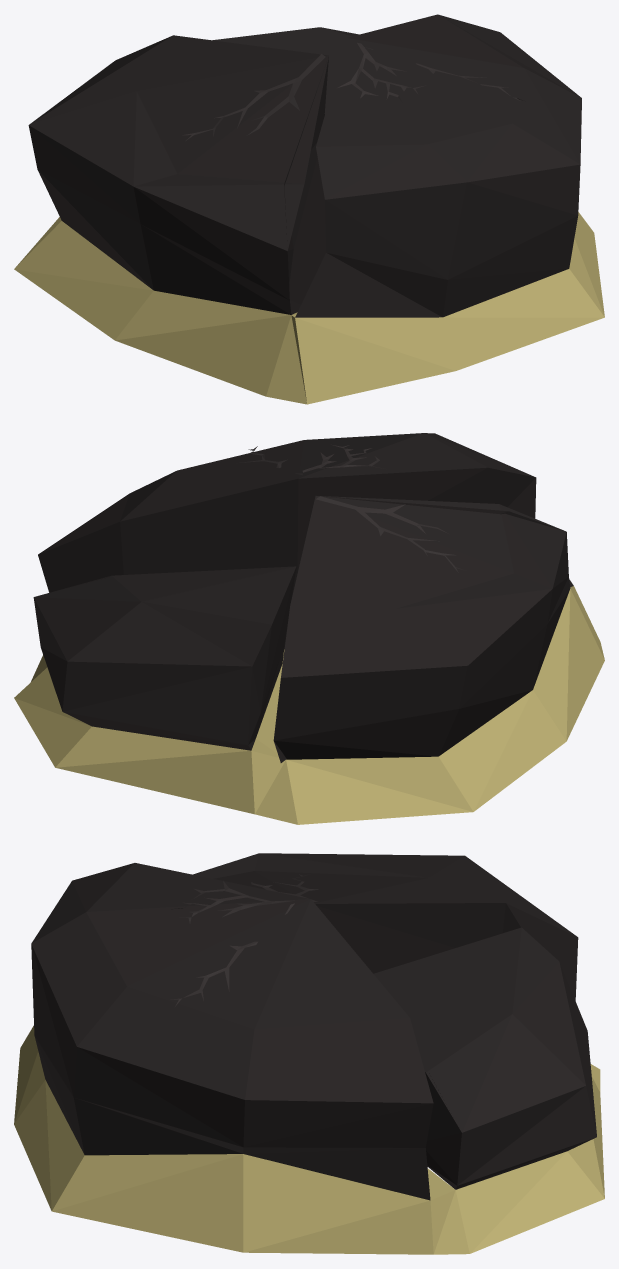
Rendered from obj_mysterious_ruins_5_0.obj.
The picture shows the model from 3 angles, top to bottom: view 1: azimuth 30°, elevation 25°; view 2: azimuth 150°, elevation 25°; view 3: azimuth 270°, elevation 25°; orthographic projection. The views are drawn at different scales.
Bounding box in the file's own units: 2.93 × 1.32 × 2.94.
